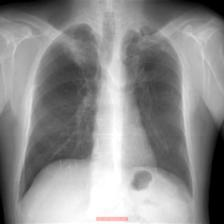tuberculosis: (15, 22, 199, 208)
